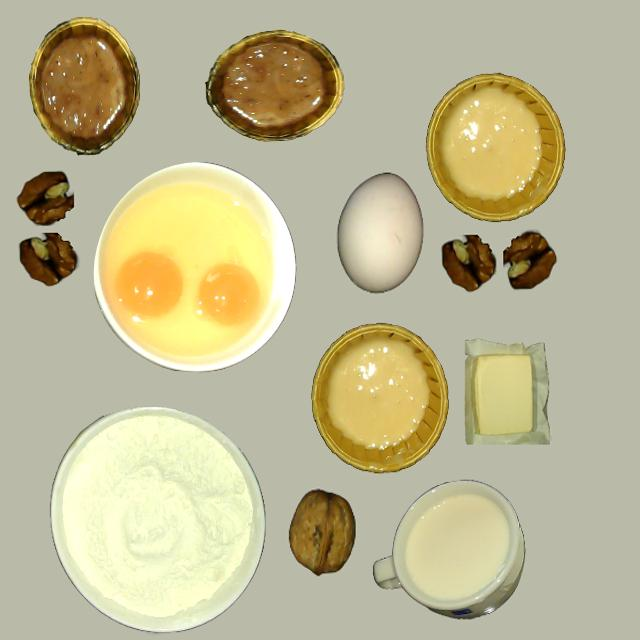Egg: (114, 251, 184, 319), (198, 263, 260, 325)
Flour: (50, 406, 262, 630)
Milk: (403, 492, 509, 601)
Walnut: (289, 491, 352, 574)
